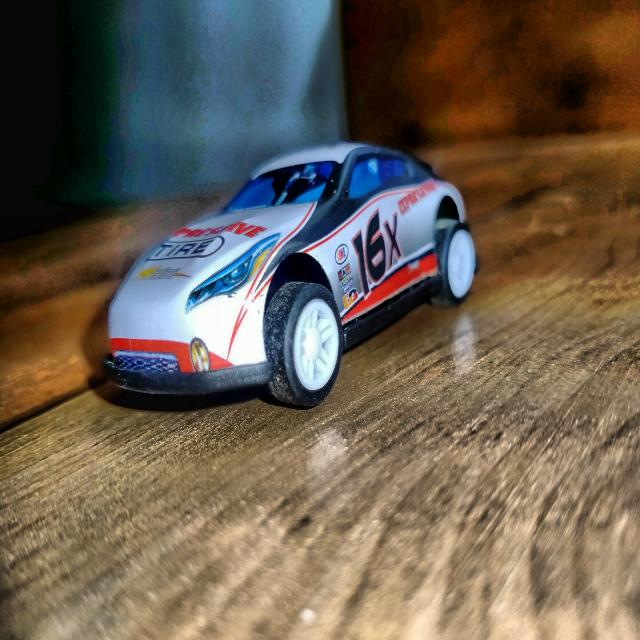Car: (104, 144, 476, 406)
